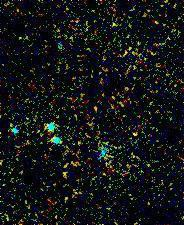star: (121, 119, 151, 149)
